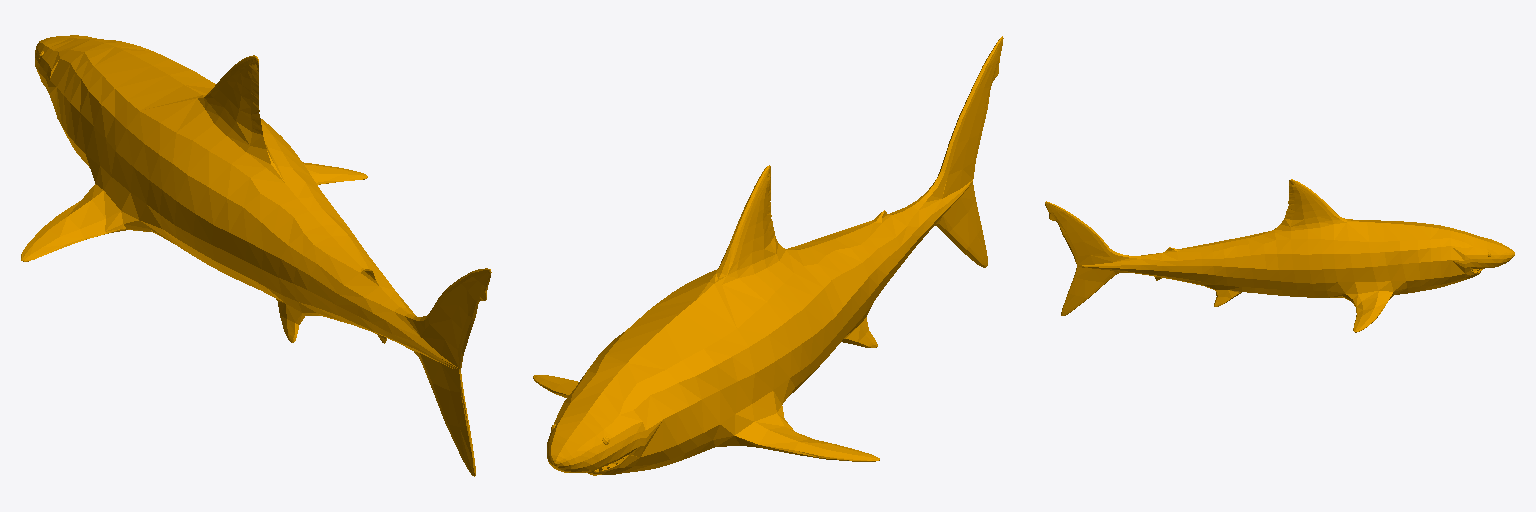
URDF robot description (mesh_object):
<?xml version="1.0" ?>
<robot name="mesh_object">
  <link name="base">
    <visual>
      <geometry>
        <mesh filename="shark_3.obj" scale="1 1 1"/>
      </geometry>
    </visual>
    <collision>
      <geometry>
        <mesh filename="shark_3.obj" scale="1 1 1"/>
      </geometry>
    </collision>
    <inertial>
      <origin xyz="0.000000 -0.055077 0.057712" rpy="0 0 0"/>
      <mass value="0.5"/>
      <inertia ixx="0.01" iyy="0.01" izz="0.01" ixy="0" ixz="0" iyz="0"/>
    </inertial>
  </link>
</robot>

--- What the picture shows (computed from the rendered views, not written in the file) ---
3 views of the same robot in one strip: view 1: azimuth 30°, elevation 25°; view 2: azimuth 150°, elevation 25°; view 3: azimuth 270°, elevation 25° (orthographic).
Robot: mesh_object — 1 links, 0 joints (none); root link base; default pose: every joint at zero.
Visible links, largest first — view 1: base; view 2: base; view 3: base.
Boxes of the visible links, <box> form: base: <box>21,35,491,476</box>; base: <box>533,36,1003,475</box>; base: <box>1045,179,1514,332</box>.
Size in the robot's own frame: 0.1603 by 0.3594 by 0.1154 metres.
1 mesh visuals loaded from 1 distinct referenced files (1 OBJ).
